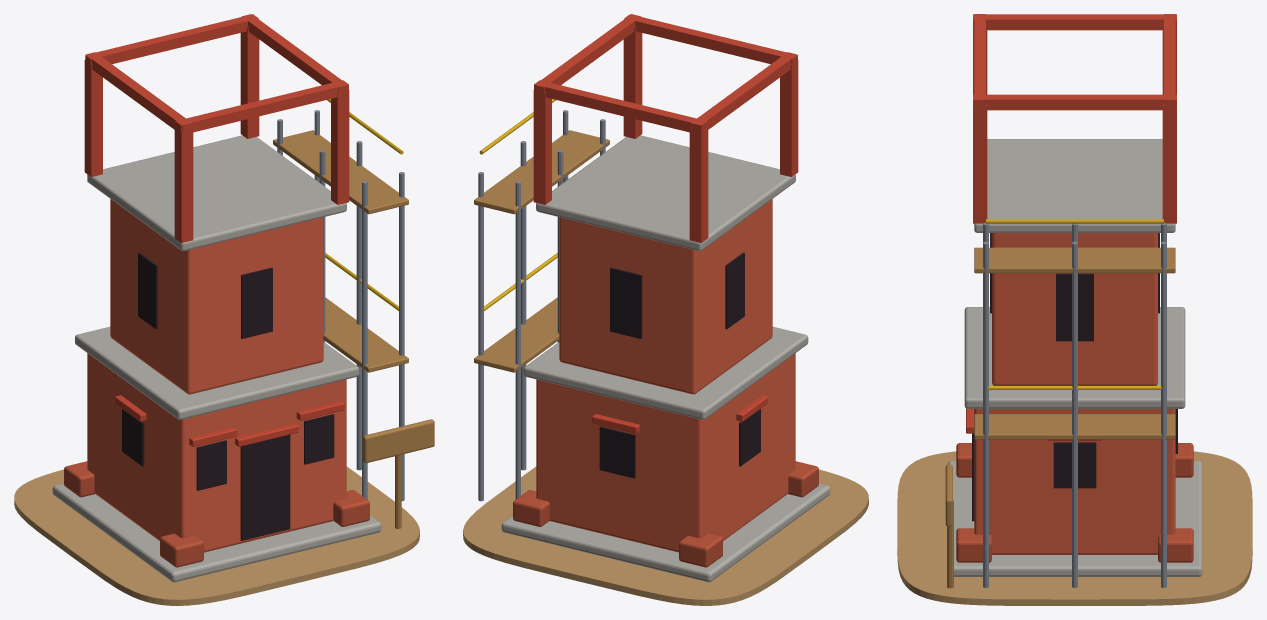
File: clock-tower-stage-2-merged.c9435876.glb
The picture shows the model from 3 angles, left to right: view 1: azimuth 30°, elevation 25°; view 2: azimuth 150°, elevation 25°; view 3: azimuth 270°, elevation 25°; orthographic projection. The views are drawn at different scales.
Visible parts, largest first — view 1: ClockTower_Stage2__T_vcol, ClockTower_Stage2__T_brickwall; view 2: ClockTower_Stage2__T_vcol, ClockTower_Stage2__T_brickwall; view 3: ClockTower_Stage2__T_vcol, ClockTower_Stage2__T_brickwall.
Boxes of the visible parts, x1,y1,x2,y2 form: ClockTower_Stage2__T_vcol: (14, 14, 434, 605); ClockTower_Stage2__T_brickwall: (87, 199, 346, 552); ClockTower_Stage2__T_vcol: (463, 14, 868, 605); ClockTower_Stage2__T_brickwall: (536, 199, 795, 552); ClockTower_Stage2__T_vcol: (897, 14, 1252, 605); ClockTower_Stage2__T_brickwall: (974, 233, 1175, 554).
Size of the model in its own units: 4.98 by 7.06 by 4.8.
